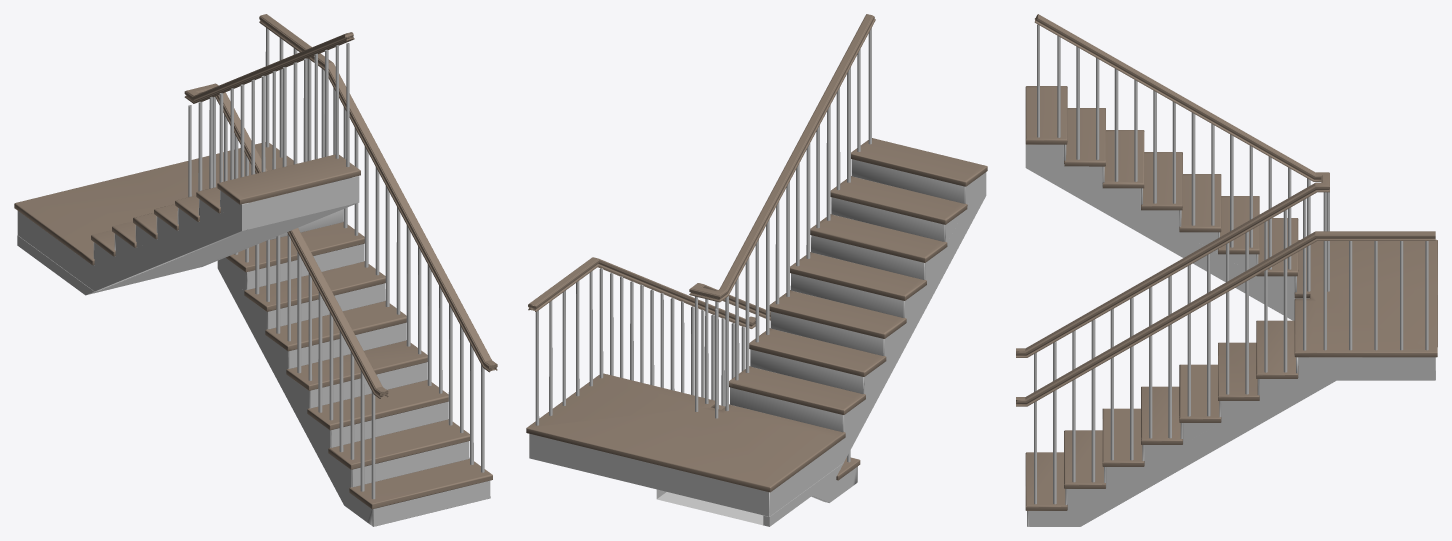
Rendered from steel-stairs.glb.
The picture shows the model from 3 angles, left to right: view 1: azimuth 30°, elevation 25°; view 2: azimuth 150°, elevation 25°; view 3: azimuth 270°, elevation 25°; orthographic projection. The views are drawn at different scales.
Parts seen in each view (by area): view 1: review-0005, review-004, Geom3D_8; view 2: review-0005, review-004, Geom3D_8; view 3: review-004, review-0005, Geom3D_8.
Part boxes in pixels (left/top/right/bottom): review-0005: left=17, top=28, right=490, bottom=526; review-004: left=14, top=142, right=492, bottom=509; Geom3D_8: left=184, top=14, right=497, bottom=398; review-0005: left=529, top=27, right=986, bottom=526; review-004: left=526, top=138, right=987, bottom=492; Geom3D_8: left=528, top=14, right=875, bottom=328; review-004: left=1025, top=86, right=1437, bottom=510; review-0005: left=1025, top=24, right=1435, bottom=526; Geom3D_8: left=1016, top=14, right=1435, bottom=406.
Size of the model in its own units: 1.86 by 3.45 by 2.93.
